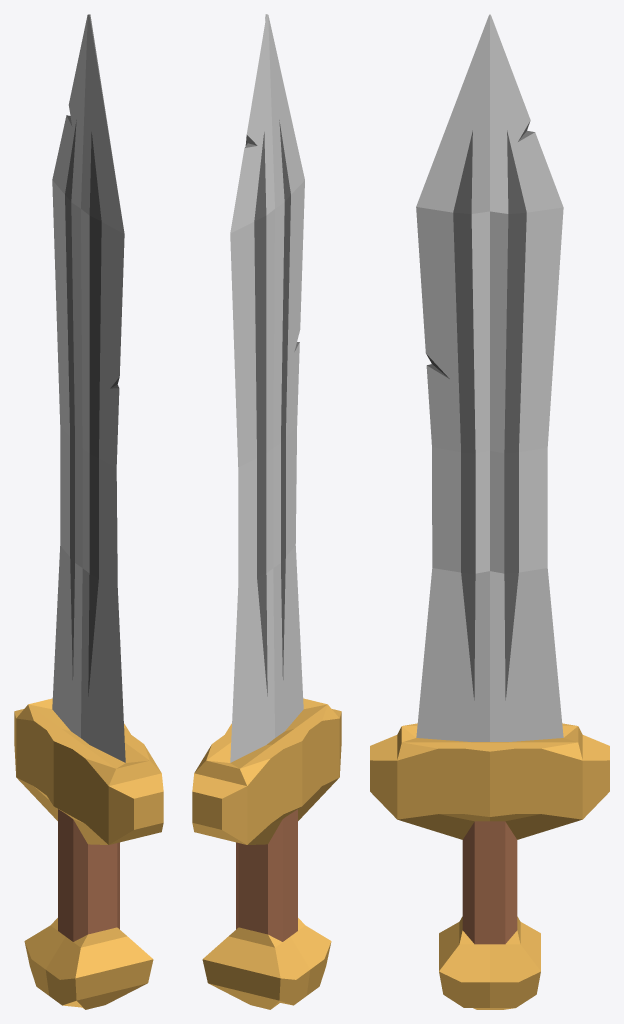
The model's file is Gladius.fbx.
The picture shows the model from 3 angles, left to right: view 1: azimuth 30°, elevation 25°; view 2: azimuth 150°, elevation 25°; view 3: azimuth 270°, elevation 25°; orthographic projection.
Parts seen in each view (by area): view 1: Gladius; view 2: Gladius; view 3: Gladius.
Part boxes in pixels (x1,y1,x2,y2): Gladius: [14, 14, 163, 1009]; Gladius: [192, 14, 341, 1009]; Gladius: [370, 14, 609, 1009].
Size of the model in its own units: 11.49 by 125 by 27.49.
1 material, 1 textured.
